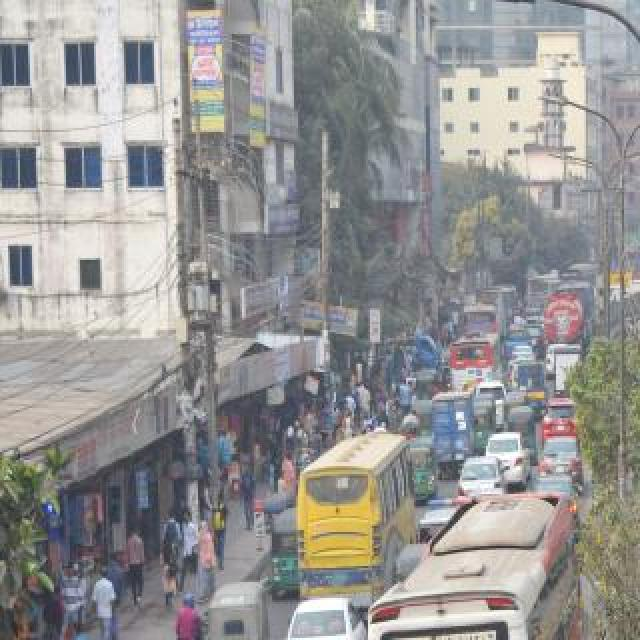bus: (366, 492, 598, 640), (294, 425, 412, 595), (447, 331, 503, 383), (480, 285, 518, 327), (463, 302, 497, 334), (528, 274, 560, 302), (561, 262, 601, 282)
car: (288, 594, 366, 640), (483, 424, 527, 486), (459, 456, 509, 498), (460, 453, 506, 497), (540, 473, 582, 513), (542, 438, 584, 478), (543, 396, 577, 434), (476, 380, 506, 414)
motorbike: (441, 361, 453, 393), (626, 316, 634, 338)
truck: (543, 287, 585, 347)
van: (431, 388, 475, 468), (515, 359, 549, 413), (552, 345, 584, 393), (413, 329, 439, 369), (503, 326, 531, 354), (220, 634, 344, 640), (636, 316, 640, 358)
